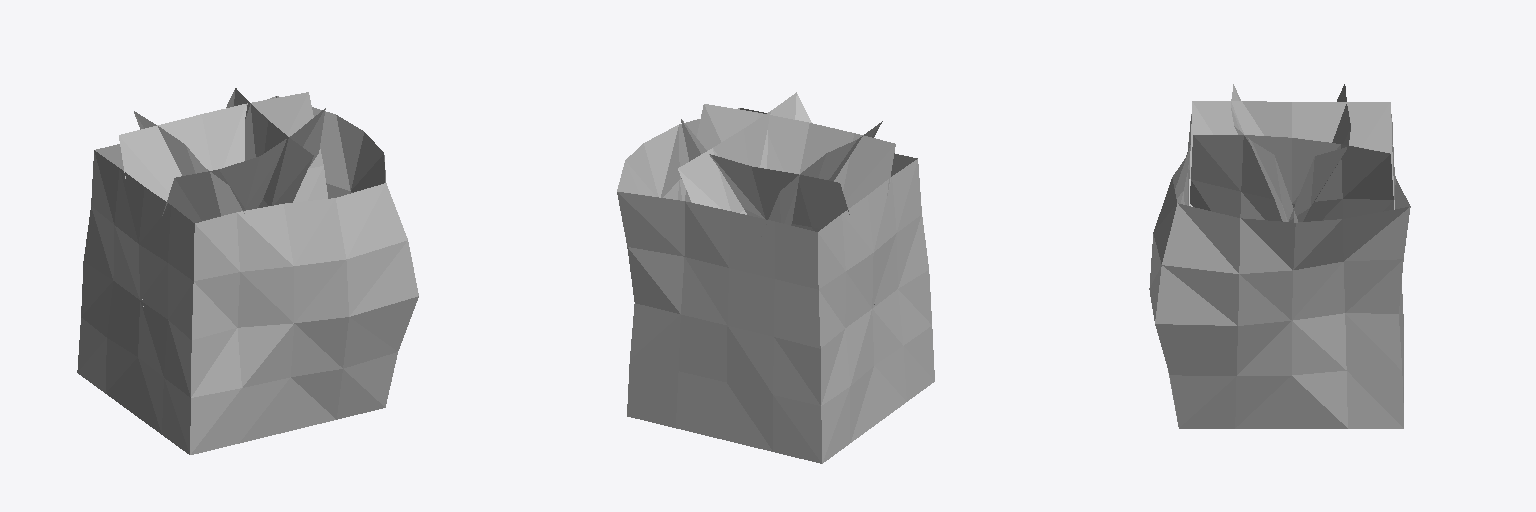
Rendered from fire.obj.
3 views of the same model, side by side, from view 1: azimuth 30°, elevation 25°; view 2: azimuth 150°, elevation 25°; view 3: azimuth 270°, elevation 25° (orthographic).
Parts seen in each view (by area): view 1: fire_0_stone_brick.005; view 2: fire_0_stone_brick.005; view 3: fire_0_stone_brick.005.
Boxes of the visible parts, <box> form: fire_0_stone_brick.005: <box>77,88,418,454</box>; fire_0_stone_brick.005: <box>617,92,934,463</box>; fire_0_stone_brick.005: <box>1149,84,1410,428</box>.
Bounding box in the file's own units: 1.19 × 1.31 × 1.16.